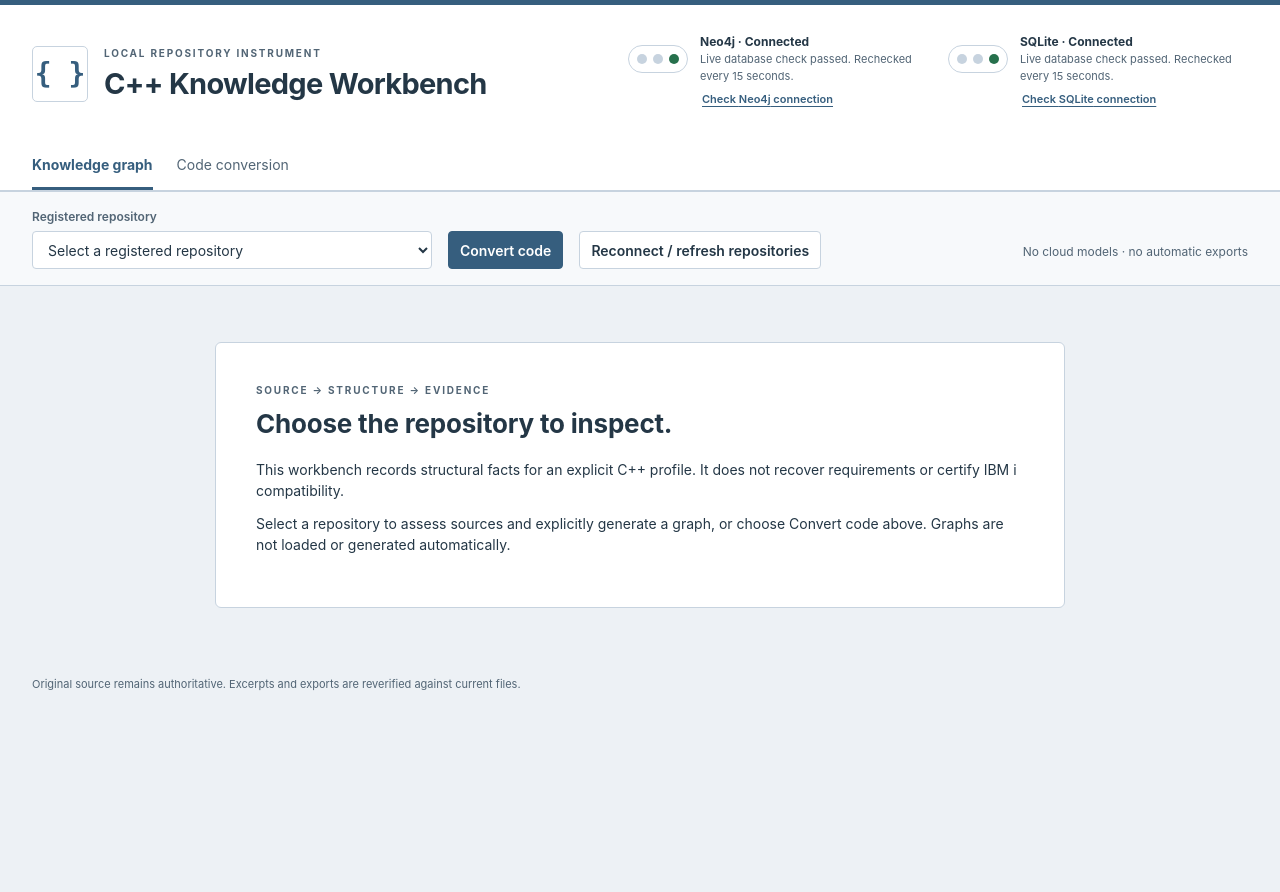
repository workflow › generates only on explicit request and then loads the published partial graph
Select "First repo · registered" in the dropdown labelled "Registered repository". click: (232, 250)
box: top-left (32, 231), bottom-right (432, 269)
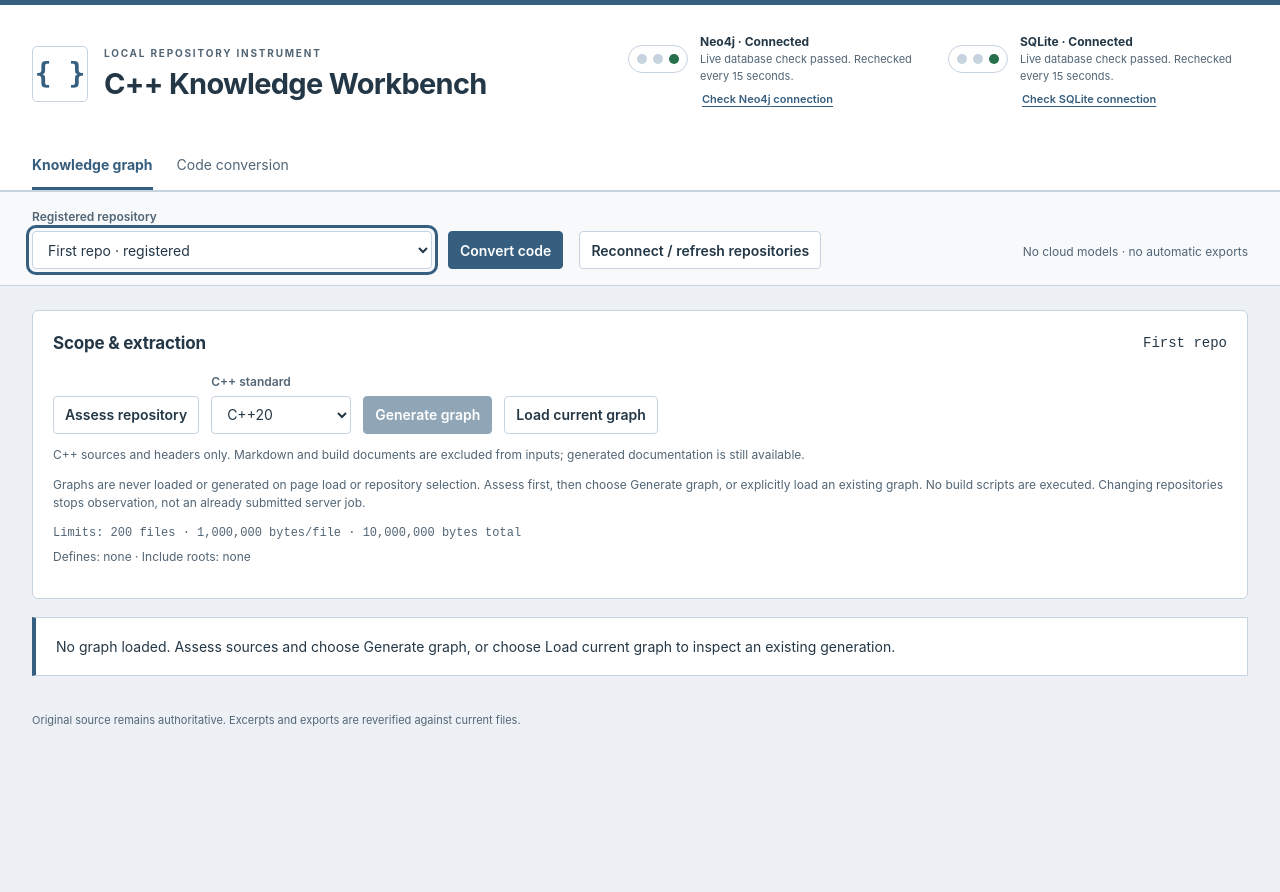
Click the button "Assess repository". click: (126, 414)
box: top-left (53, 396), bottom-right (199, 434)
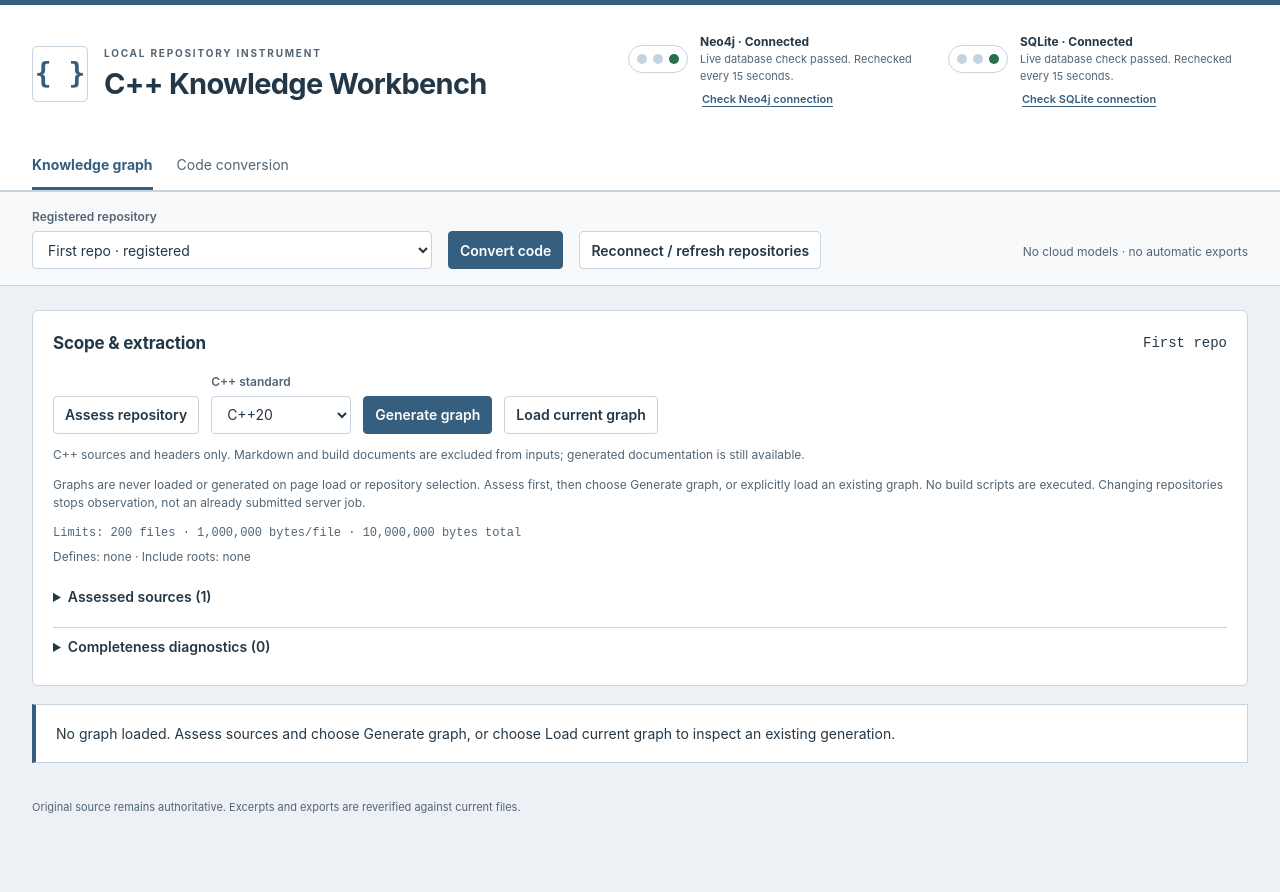
Click the button "Generate graph". click: (428, 414)
box: top-left (363, 396), bottom-right (492, 434)
(page scrolled)
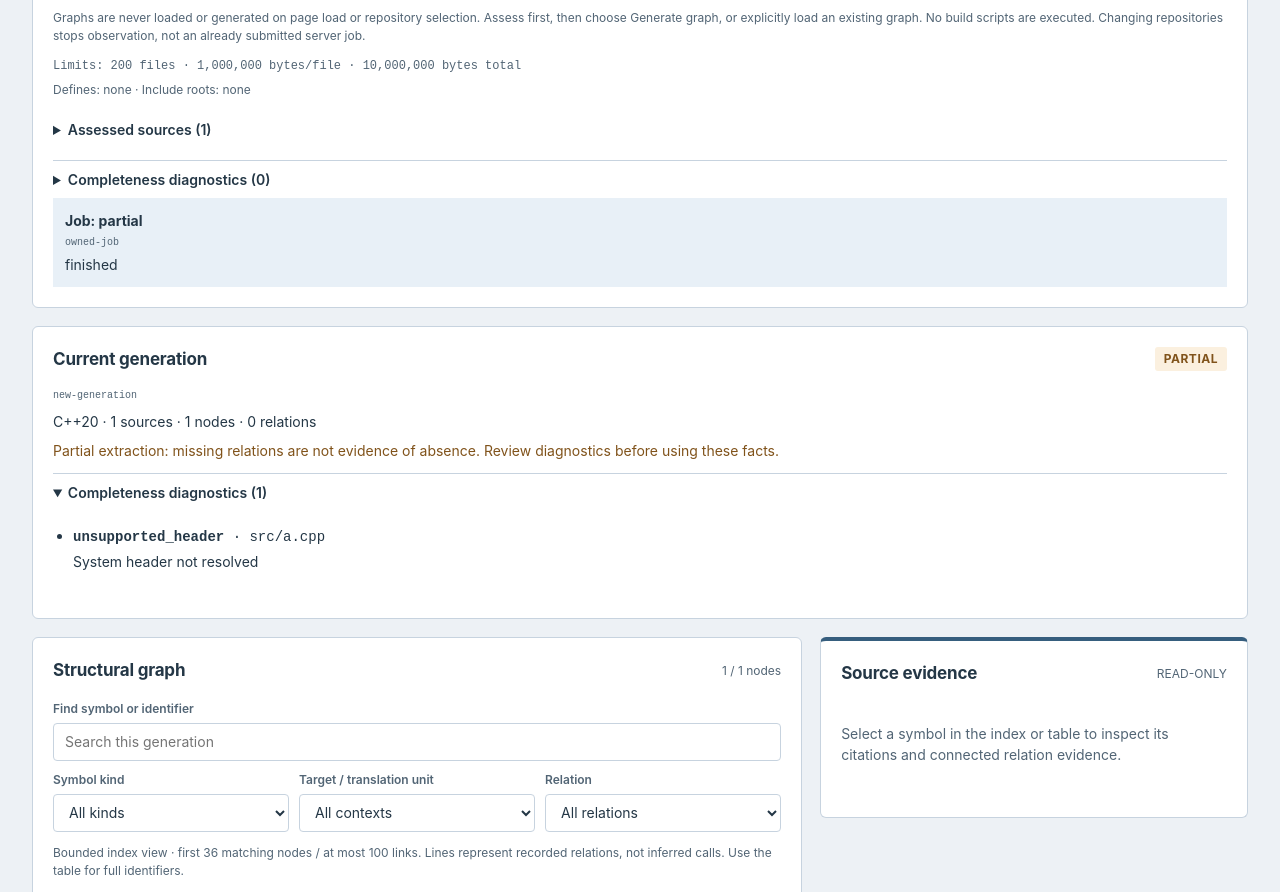
Check: the text "new-generation" is shown, box top-left (53, 390), bottom-right (137, 401)
Check: the text "Partial extraction: missing relations" is shown, box top-left (53, 442), bottom-right (779, 459)
